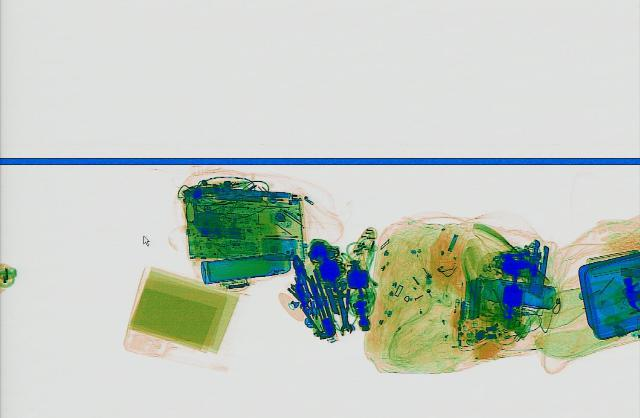Pliers: (282, 251, 326, 307)
